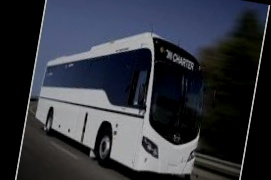bus: (29, 13, 218, 180)
